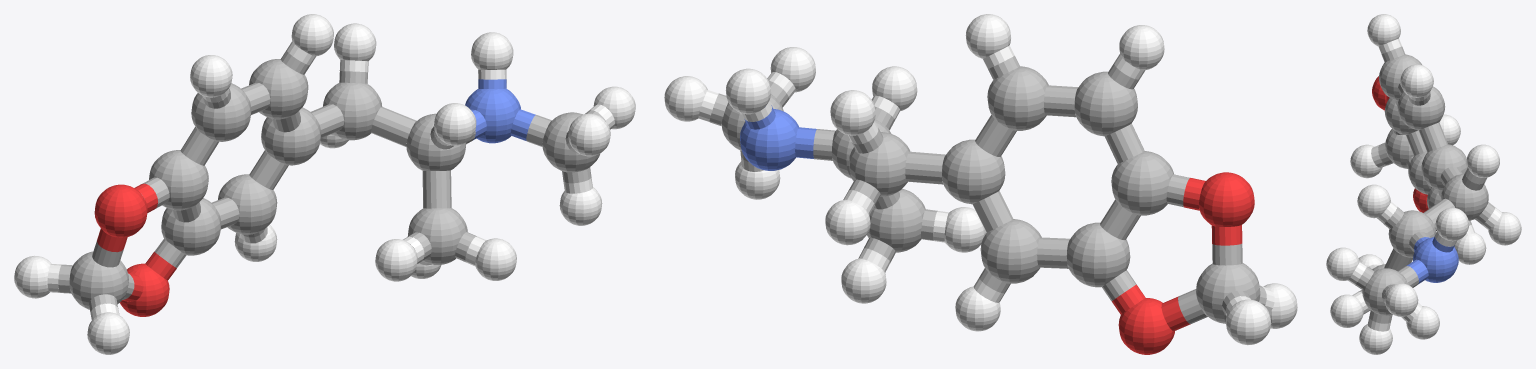
Rendered from mdma.gltf.
3 renders of one model, left to right at view 1: azimuth 30°, elevation 25°; view 2: azimuth 150°, elevation 25°; view 3: azimuth 270°, elevation 25°, orthographic. The views are drawn at different scales.
Visible parts, largest first — view 1: ShapeSphere.010, ShapeSphere.009, ShapeSphere.007, ShapeSphere.004, ShapeSphere.001, ShapeSphere.011, ShapeSphere.006, ShapeSphere.005, ShapeSphere.013, ShapeSphere.008, ShapeSphere.002, ShapeSphere.003 (+25 smaller); view 2: ShapeSphere.010, ShapeSphere.011, ShapeSphere.007, ShapeSphere.005, ShapeSphere.009, ShapeSphere.008, ShapeSphere.002, ShapeSphere.004, ShapeSphere.001, ShapeSphere.006, ShapeSphere.013, ShapeSphere (+33 smaller); view 3: ShapeSphere.009, ShapeSphere.005, ShapeSphere.002, ShapeSphere.003, ShapeSphere.004, ShapeSphere.012, ShapeSphere.011, ShapeSphere.022, ShapeSphere.025, ShapeSphere.016, ShapeSphere.017, ShapeSphere.021 (+37 smaller).
Part boxes in pixels (left/top/right/bottom): ShapeSphere.010: left=149, top=150, right=208, bottom=210; ShapeSphere.009: left=249, top=59, right=308, bottom=119; ShapeSphere.007: left=218, top=174, right=277, bottom=234; ShapeSphere.004: left=323, top=82, right=382, bottom=140; ShapeSphere.001: left=94, top=184, right=147, bottom=237; ShapeSphere.011: left=191, top=83, right=251, bottom=141; ShapeSphere.006: left=407, top=208, right=467, bottom=264; ShapeSphere.005: left=261, top=107, right=321, bottom=165; ShapeSphere.013: left=69, top=251, right=128, bottom=309; ShapeSphere.008: left=161, top=198, right=221, bottom=255; ShapeSphere.002: left=465, top=88, right=520, bottom=143; ShapeSphere.003: left=406, top=113, right=466, bottom=170; ShapeSphere.010: left=1111, top=151, right=1173, bottom=215; ShapeSphere.011: left=1074, top=71, right=1137, bottom=136; ShapeSphere.007: left=980, top=219, right=1041, bottom=283; ShapeSphere.005: left=942, top=139, right=1005, bottom=204; ShapeSphere.009: left=987, top=66, right=1048, bottom=130; ShapeSphere.008: left=1066, top=222, right=1130, bottom=287; ShapeSphere.002: left=740, top=109, right=798, bottom=170; ShapeSphere.004: left=849, top=132, right=910, bottom=196; ShapeSphere.001: left=1199, top=172, right=1254, bottom=226; ShapeSphere.006: left=867, top=188, right=925, bottom=252; ShapeSphere.013: left=1196, top=263, right=1260, bottom=323; ShapeSphere: left=1118, top=298, right=1174, bottom=354; ShapeSphere.009: left=1397, top=86, right=1445, bottom=130; ShapeSphere.005: left=1421, top=144, right=1467, bottom=191; ShapeSphere.002: left=1413, top=237, right=1458, bottom=282; ShapeSphere.003: left=1388, top=210, right=1435, bottom=257; ShapeSphere.004: left=1441, top=174, right=1488, bottom=220; ShapeSphere.012: left=1362, top=268, right=1408, bottom=315; ShapeSphere.011: left=1379, top=54, right=1421, bottom=100; ShapeSphere.022: left=1400, top=64, right=1433, bottom=97; ShapeSphere.025: left=1384, top=283, right=1418, bottom=316; ShapeSphere.016: left=1466, top=144, right=1499, bottom=177; ShapeSphere.017: left=1330, top=294, right=1363, bottom=327; ShapeSphere.021: left=1435, top=207, right=1469, bottom=241.
Size of the model in its own units: 11.44 by 5.49 by 4.18.
